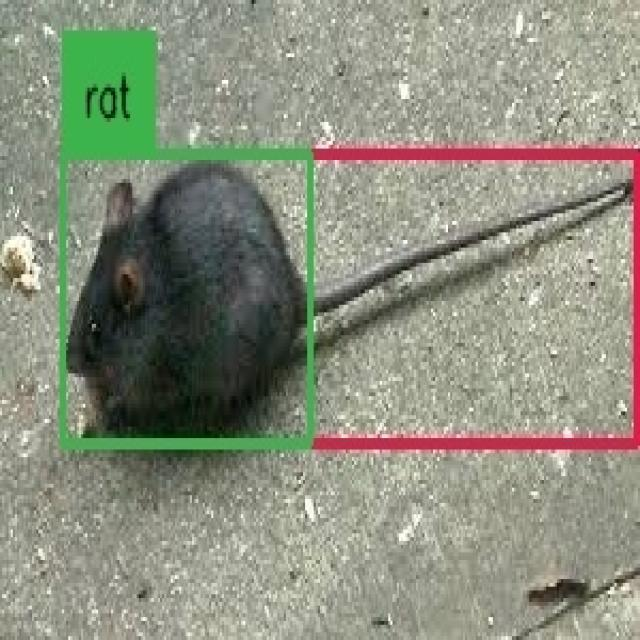rat: (62, 154, 638, 444), (64, 152, 311, 442)
